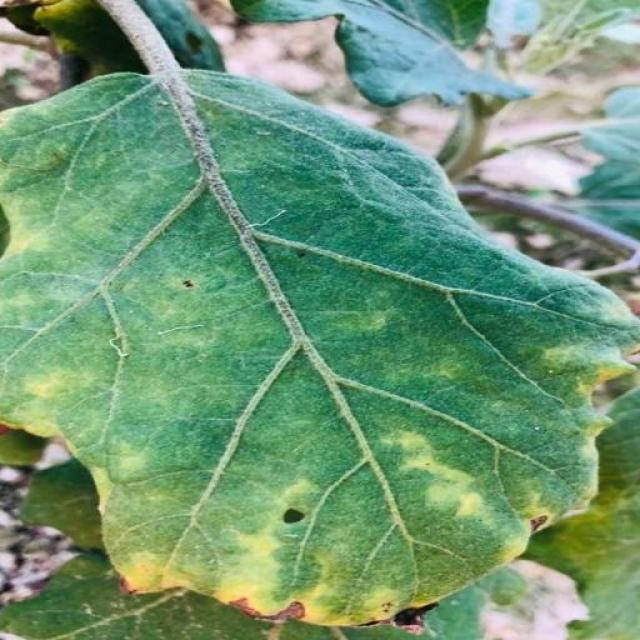leaf_spot: (120, 518, 447, 640), (481, 414, 640, 640), (46, 404, 162, 554), (338, 284, 479, 398), (389, 439, 502, 569), (518, 314, 640, 428), (2, 93, 58, 275), (0, 349, 83, 451), (252, 447, 329, 538), (150, 268, 223, 316)
